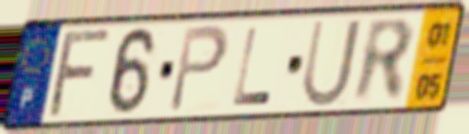6: (106, 24, 160, 120)
F: (43, 26, 116, 122)
L: (230, 25, 275, 109)
P: (166, 22, 231, 116)
R: (351, 16, 417, 107)
U: (299, 16, 365, 110)
